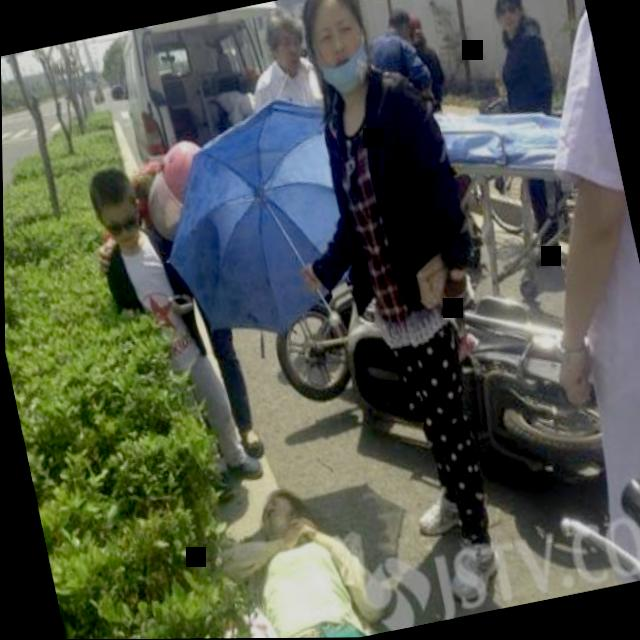Fall-Detected: (188, 440, 454, 639)
